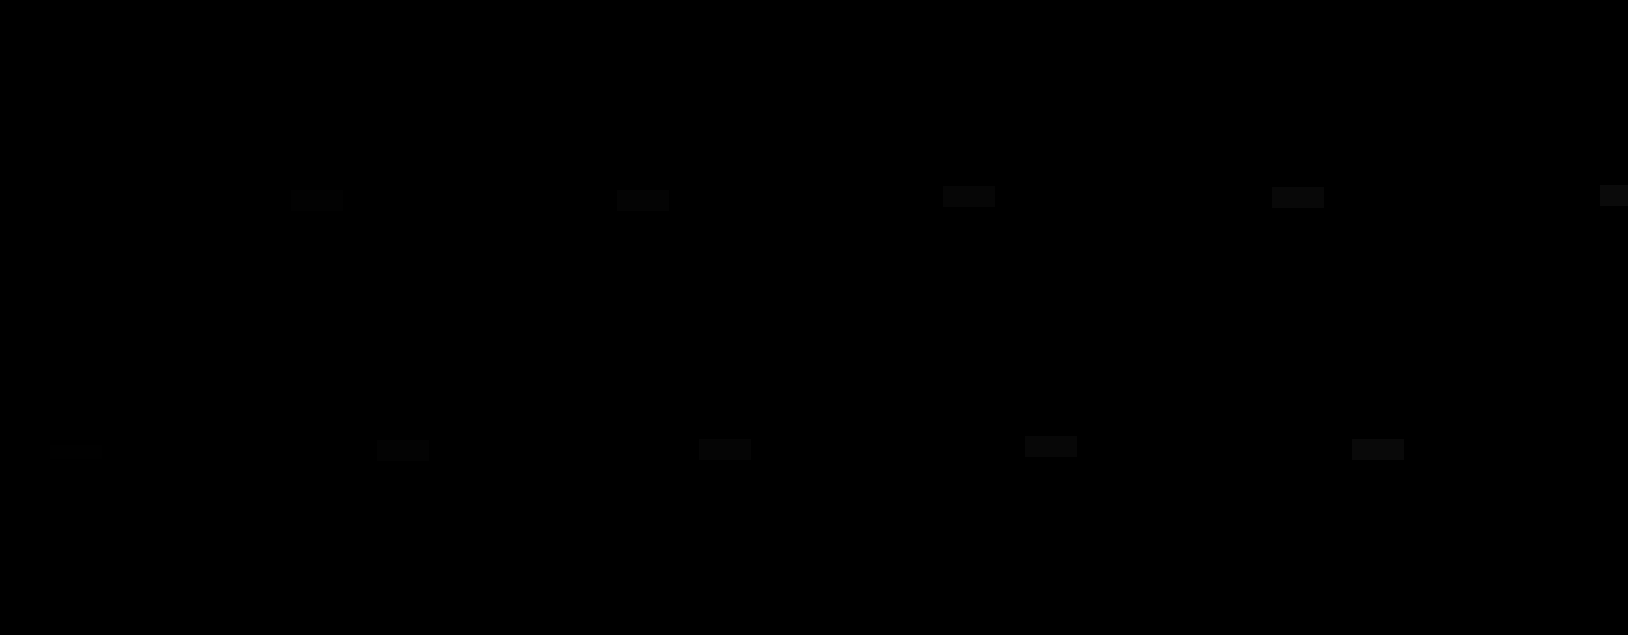light: (943, 186, 995, 208), (291, 190, 343, 211), (377, 440, 429, 461), (617, 190, 669, 211), (699, 439, 751, 460), (1025, 436, 1077, 457), (1272, 187, 1324, 208), (1352, 439, 1404, 460), (50, 445, 102, 459), (1600, 185, 1628, 206)
